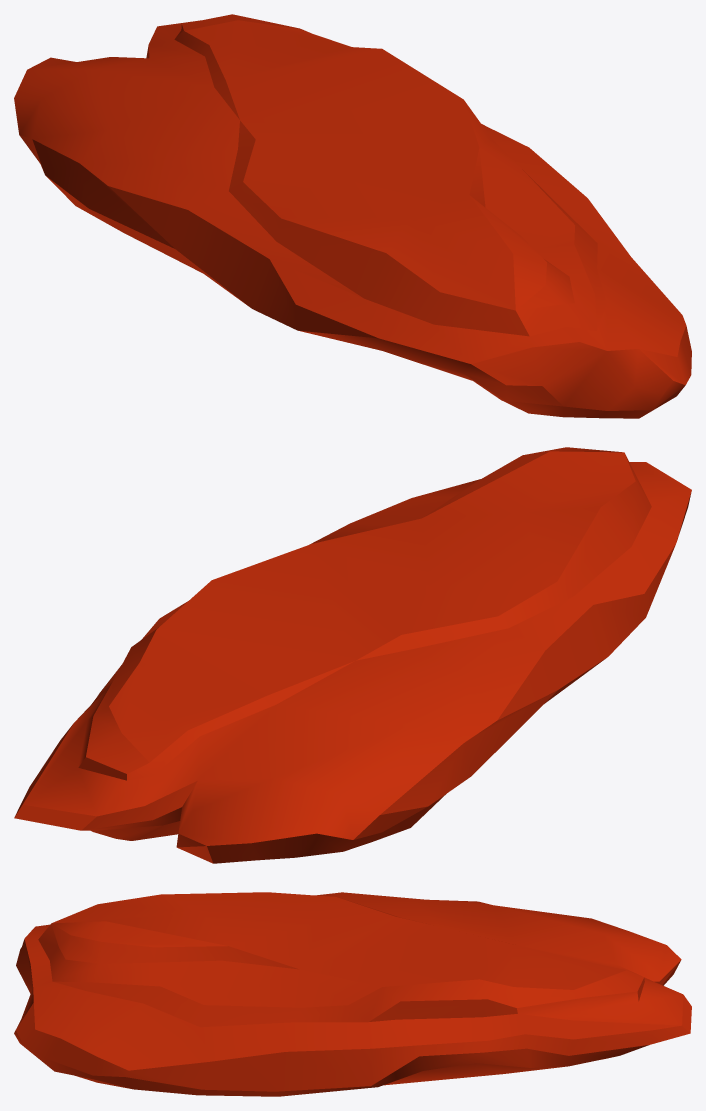
The model's file is SM_Sharp_Rock_03.fbx.
The picture shows the model from 3 angles, top to bottom: view 1: azimuth 30°, elevation 25°; view 2: azimuth 150°, elevation 25°; view 3: azimuth 270°, elevation 25°; orthographic projection. The views are drawn at different scales.
Visible parts, largest first — view 1: SM_Sharp_Rock_03; view 2: SM_Sharp_Rock_03; view 3: SM_Sharp_Rock_03.
Boxes of the visible parts, x1=… form: SM_Sharp_Rock_03: x1=14, y1=14, x2=691, y2=418; SM_Sharp_Rock_03: x1=14, y1=447, x2=691, y2=863; SM_Sharp_Rock_03: x1=14, y1=892, x2=691, y2=1096.
Size of the model in its own units: 242 by 97.51 by 510.
